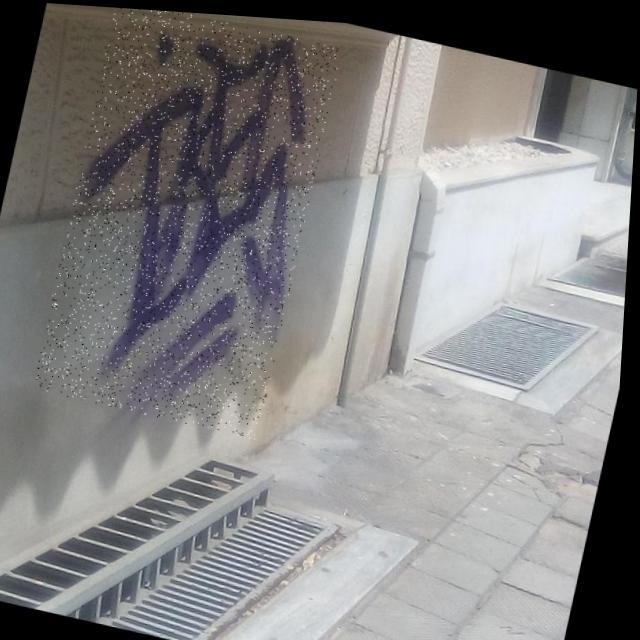-: (34, 3, 344, 439)
